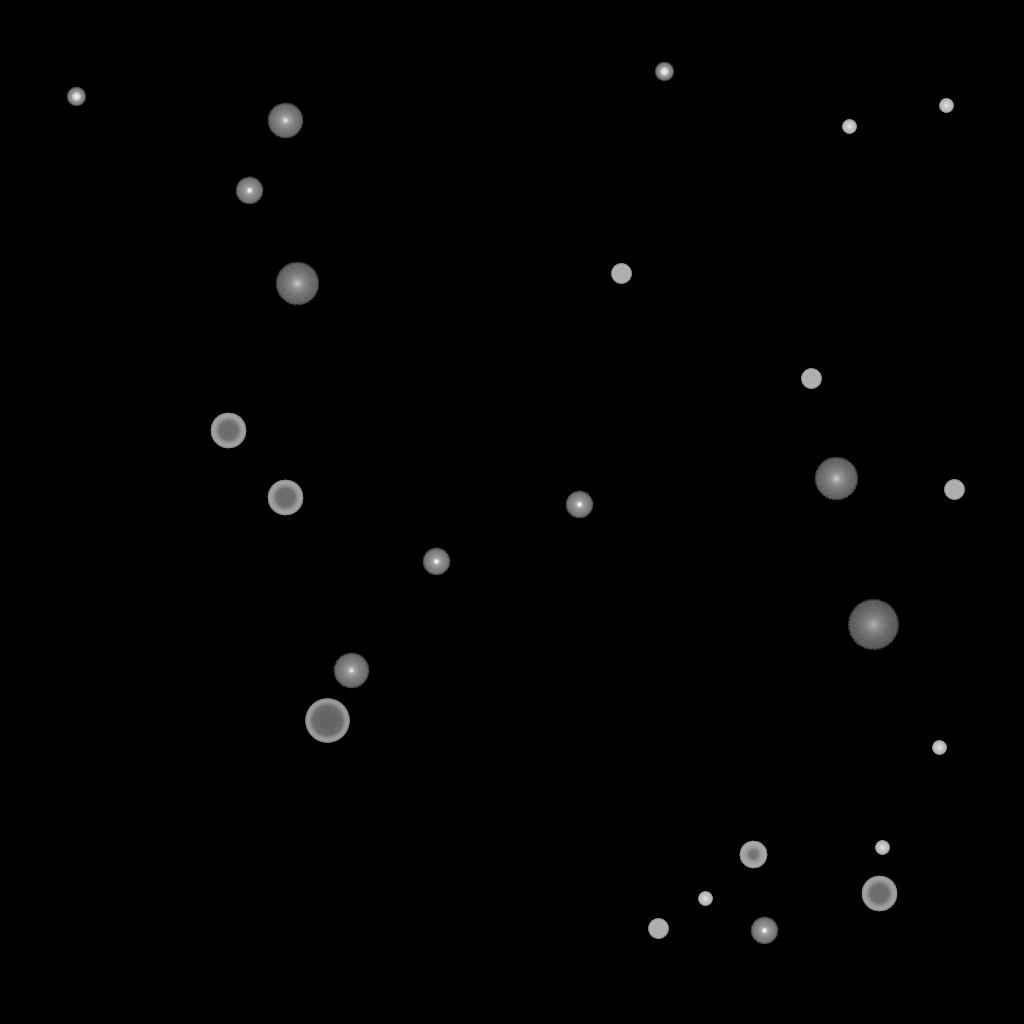depth:-10: (235, 177, 263, 205), (750, 917, 778, 945), (422, 548, 450, 576), (565, 491, 593, 519)
depth:-20: (67, 88, 85, 106), (655, 63, 673, 81)
depth:-30: (932, 741, 946, 755), (939, 99, 953, 113), (842, 120, 856, 134), (875, 841, 889, 855), (698, 892, 712, 906)
depth:-40: (944, 480, 964, 500), (611, 264, 631, 284), (801, 369, 821, 389), (648, 919, 668, 939)
depth:-50: (739, 841, 767, 869)
depth:-60: (267, 480, 303, 516), (861, 876, 897, 912), (210, 413, 246, 449)
depth:-70: (305, 699, 349, 743)
depth:0: (333, 653, 369, 689), (267, 103, 303, 139)
depth:10: (814, 457, 858, 501), (275, 262, 319, 306)
depth:20: (847, 600, 899, 650)
